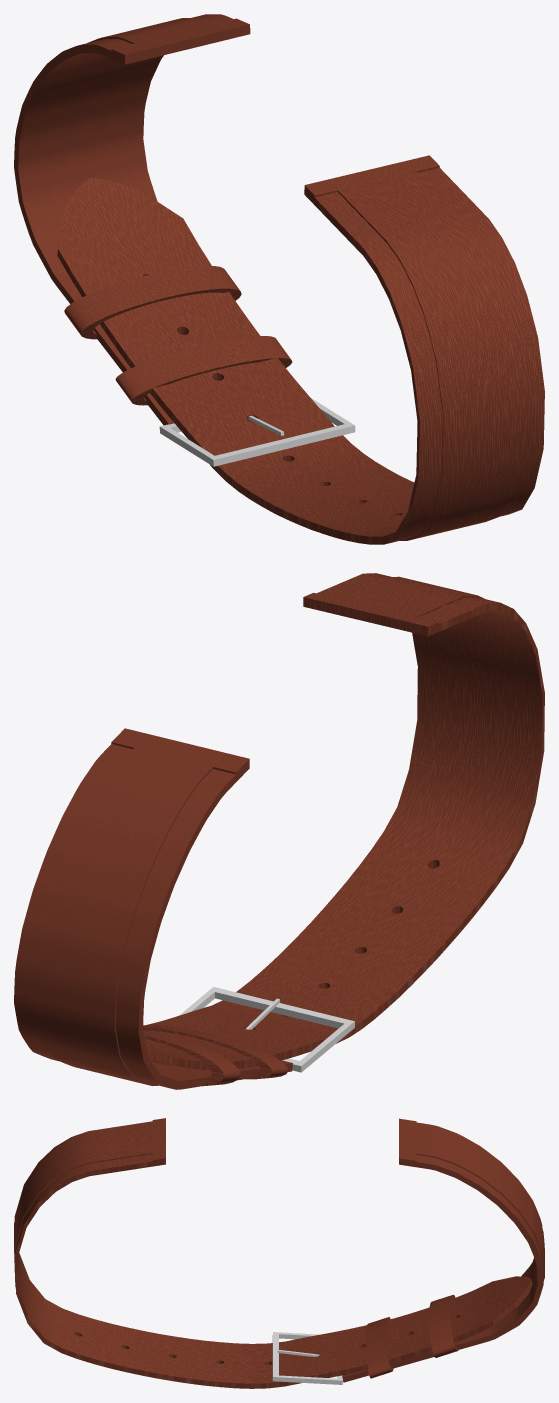
The model's file is BrownLeatherBand.glb.
The picture shows the model from 3 angles, top to bottom: view 1: azimuth 30°, elevation 25°; view 2: azimuth 150°, elevation 25°; view 3: azimuth 270°, elevation 25°; orthographic projection. The views are drawn at different scales.
Visible parts, largest first — view 1: LongStrap.002, ShortConnect.001, Cylinder.003, Cylinder.002, Connector.001; view 2: LongStrap.002, ShortConnect.001, Connector.001, Cylinder.002, Cylinder.003; view 3: LongStrap.002, ShortConnect.001, Cylinder.003, Cylinder.002, Connector.001.
Part boxes in pixels (x1,y1,x2,y2): LongStrap.002: [57, 155, 544, 544]; ShortConnect.001: [14, 14, 250, 425]; Cylinder.003: [64, 266, 241, 339]; Cylinder.002: [115, 336, 292, 405]; Connector.001: [159, 398, 355, 466]; LongStrap.002: [144, 573, 544, 1070]; ShortConnect.001: [14, 728, 292, 1089]; Connector.001: [179, 987, 354, 1072]; Cylinder.002: [143, 1025, 288, 1079]; Cylinder.003: [143, 1030, 240, 1086]; LongStrap.002: [14, 1118, 532, 1388]; ShortConnect.001: [342, 1118, 544, 1382]; Cylinder.003: [429, 1294, 458, 1357]; Cylinder.002: [365, 1317, 393, 1378]; Connector.001: [272, 1332, 342, 1384].
Bounding box in the file's own units: 0.9944 × 2.09 × 4.33.
Materials: 4 (2 with a texture image).
